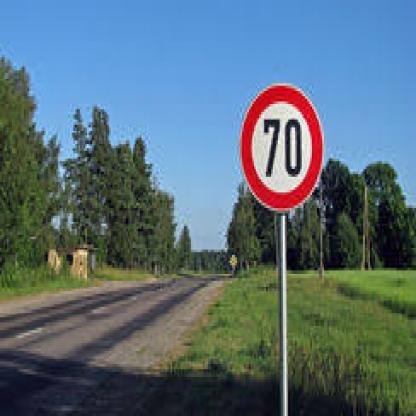Speed Limit 70: (239, 84, 325, 211)
